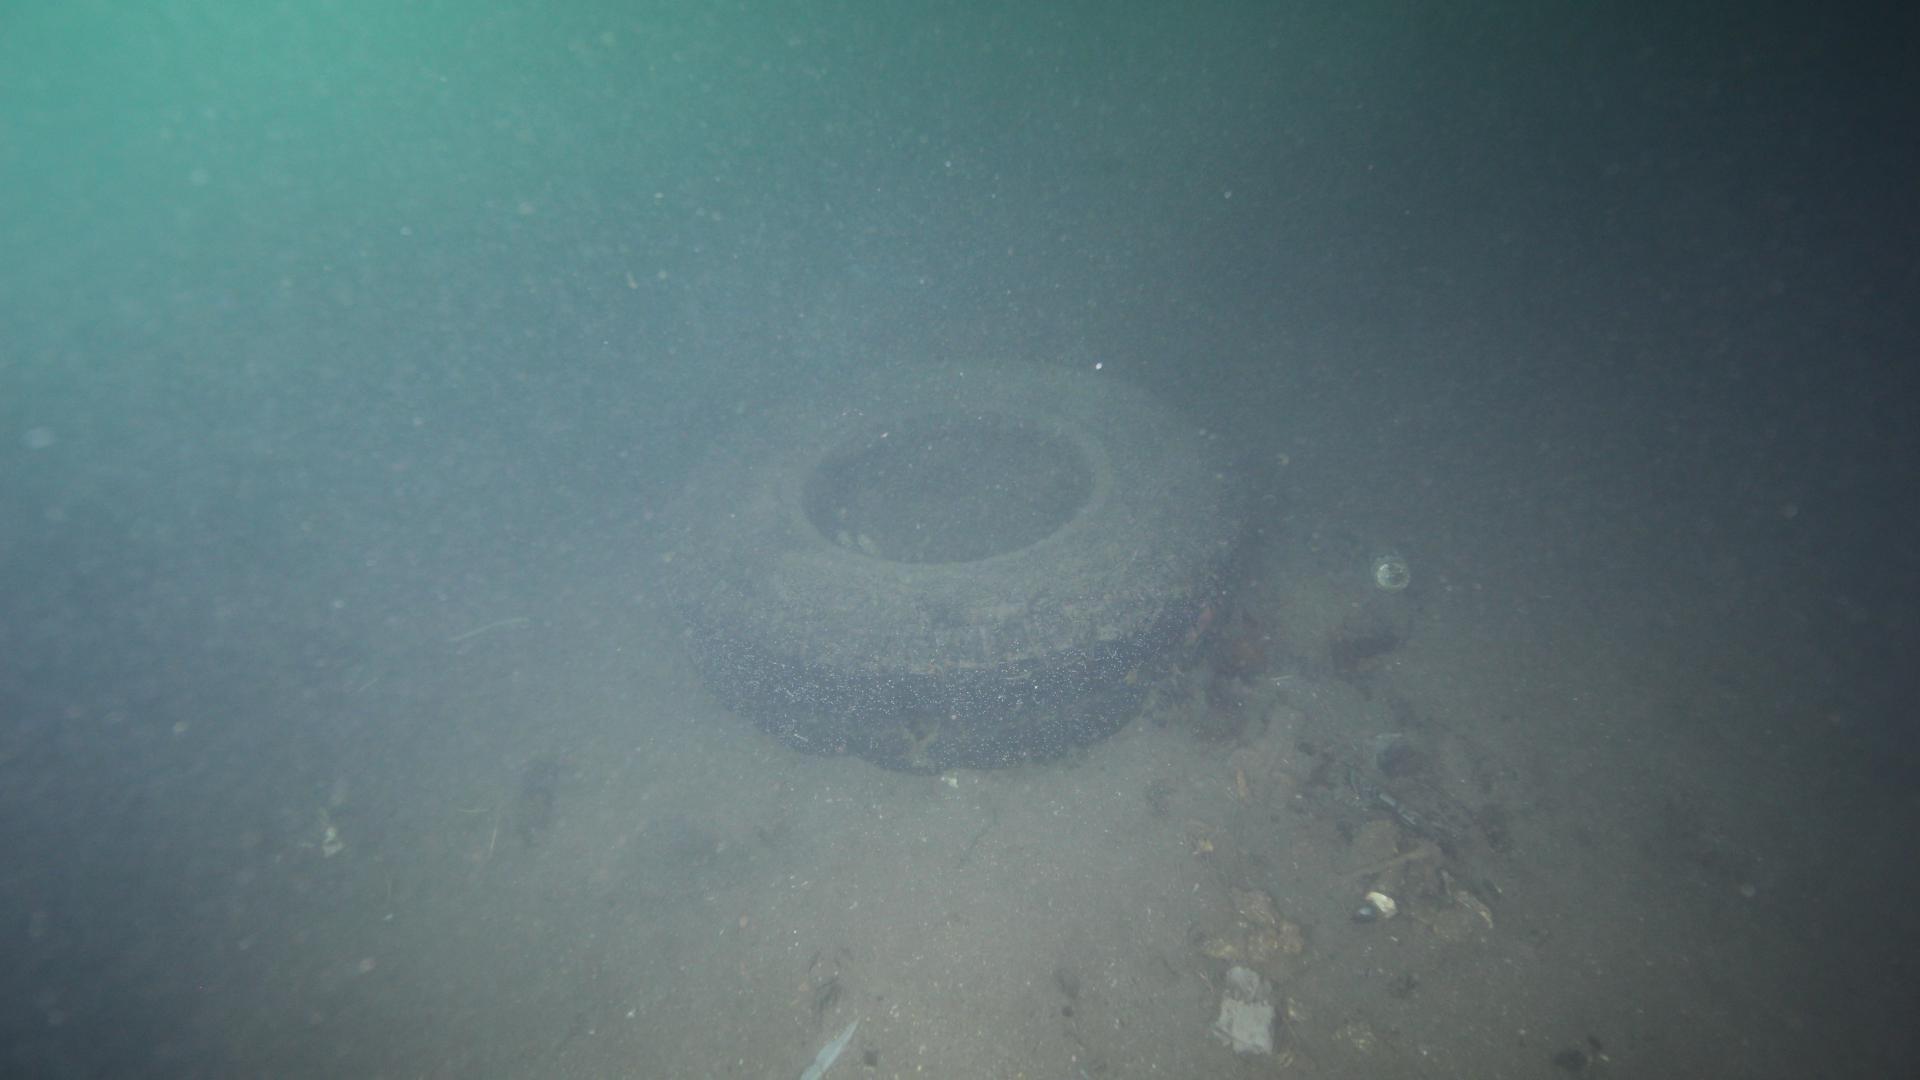tire: (670, 356, 1240, 771)
